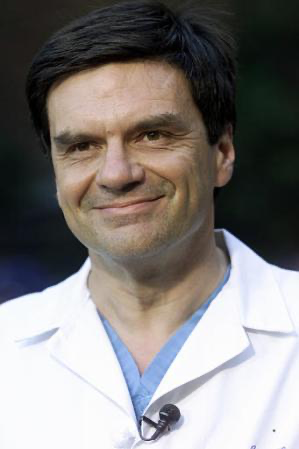Face: (52, 69, 213, 265)
